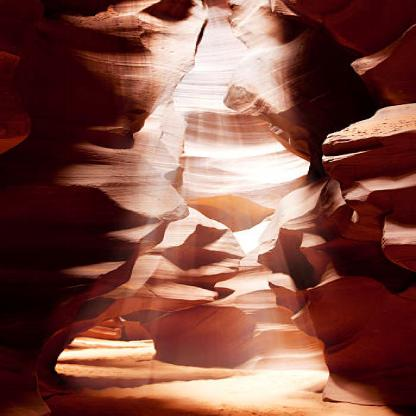Sedimentary_Sandstone: (2, 145, 172, 283), (1, 7, 189, 129), (295, 102, 415, 270)
